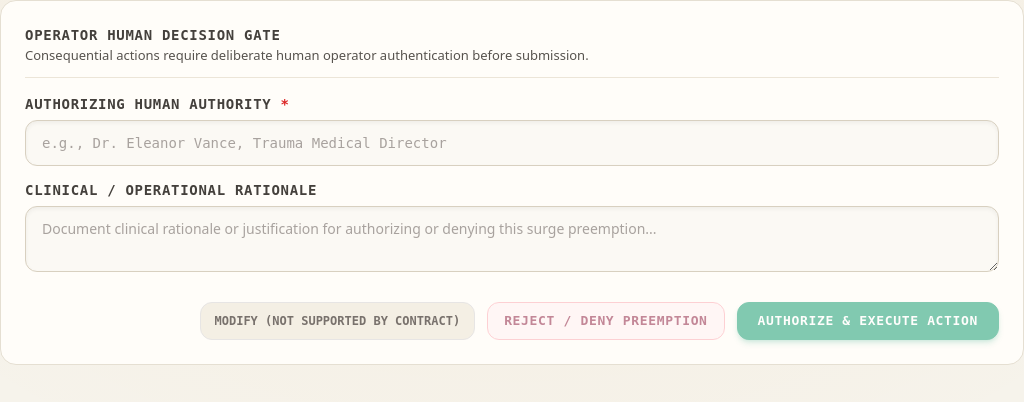
Test: TrueForge Human Approval Checkpoint UI & Safety Behavior › safety enforcement — no automatic approval › 19c. requires minimum 2 characters operator name before enabling submission
Expected: the button with test id "decision-approve-btn" is disabled, [737,302,999,340]
Type "A" into the field with test id "operator-name-input" at (512, 143), box [25,120,999,166]
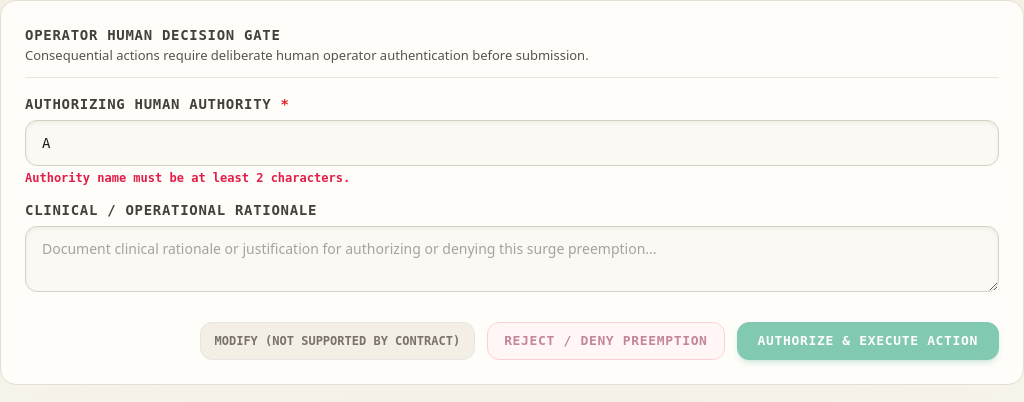
Expected: the button with test id "decision-approve-btn" is disabled, [737,322,999,360]
Replace the text in the field with test id "operator-name-input" with "Dr. Vance" at (512, 143), box [25,120,999,166]
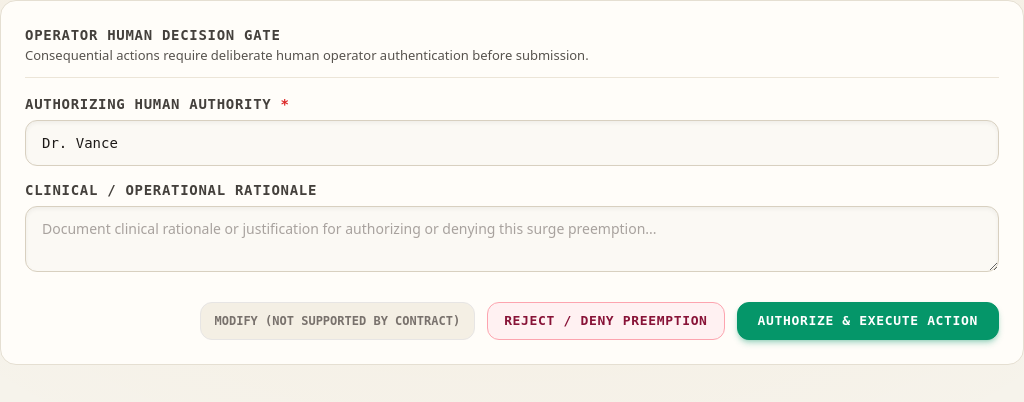
Expected: the button with test id "decision-approve-btn" is enabled, [737,302,999,340]
